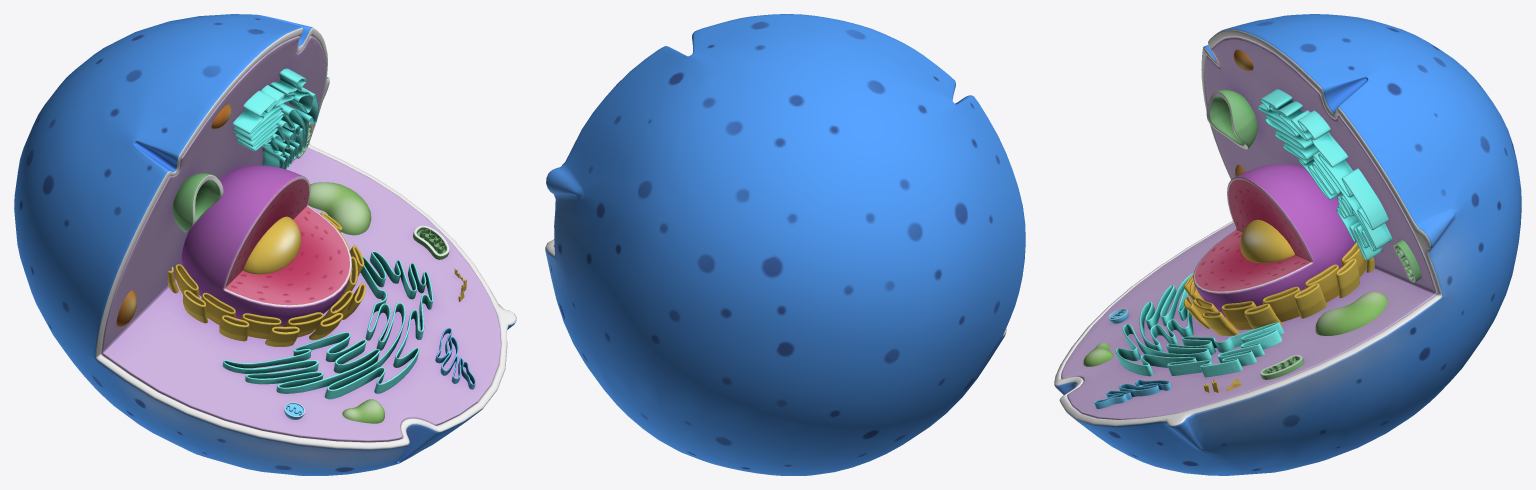
Rendered from animalcell.glb.
The picture shows the model from 3 angles, left to right: view 1: azimuth 30°, elevation 25°; view 2: azimuth 150°, elevation 25°; view 3: azimuth 270°, elevation 25°; orthographic projection. The views are drawn at different scales.
Visible parts, largest first — view 1: node_id33, node_id31; view 2: node_id33; view 3: node_id33, node_id31.
Part boxes in pixels (x1,y1,x2,y2): node_id33: (14, 14, 516, 475); node_id31: (101, 36, 501, 442); node_id33: (545, 14, 1025, 475); node_id33: (1054, 14, 1521, 475); node_id31: (1061, 37, 1436, 419).
Size of the model in its own units: 0.5352 by 0.5154 by 0.541.
2 materials, 2 textured.
